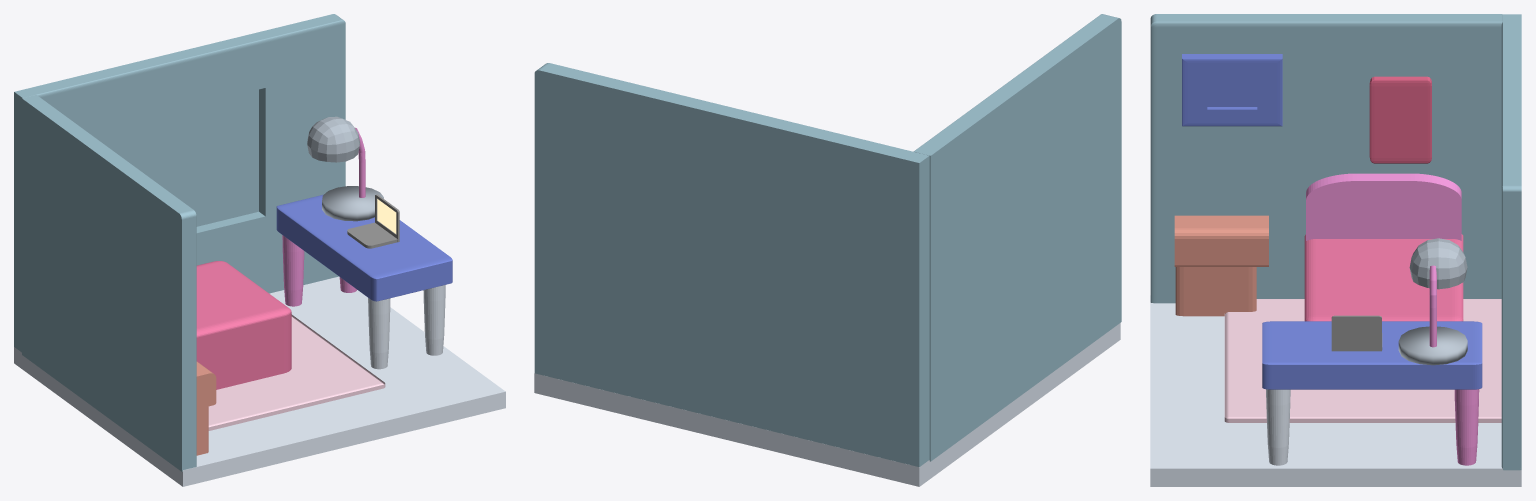
Rendered from smallroom_model.glb.
3 views of the same model, side by side, from view 1: azimuth 30°, elevation 25°; view 2: azimuth 150°, elevation 25°; view 3: azimuth 270°, elevation 25° (orthographic). The views are drawn at different scales.
Visible parts, largest first — view 1: Cylinder.006; view 2: Cylinder.006; view 3: Cylinder.006.
Part boxes in pixels (left/top/right/bottom): Cylinder.006: left=14, top=14, right=505, bottom=486; Cylinder.006: left=534, top=14, right=1121, bottom=486; Cylinder.006: left=1150, top=14, right=1521, bottom=486.
Size of the model in its own units: 7.88 by 6.26 by 7.05.
